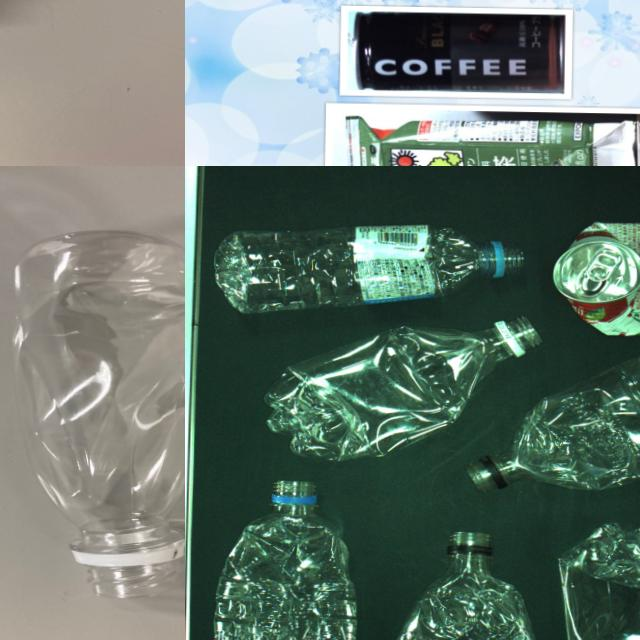Aluminium Foil: (342, 115, 640, 166)
Can: (352, 11, 564, 95), (547, 217, 640, 342)
Transparent Plastic Bottle: (0, 233, 185, 601), (274, 314, 534, 458), (221, 220, 528, 320), (472, 358, 640, 506), (212, 475, 359, 640), (388, 530, 544, 640), (540, 525, 640, 640)
